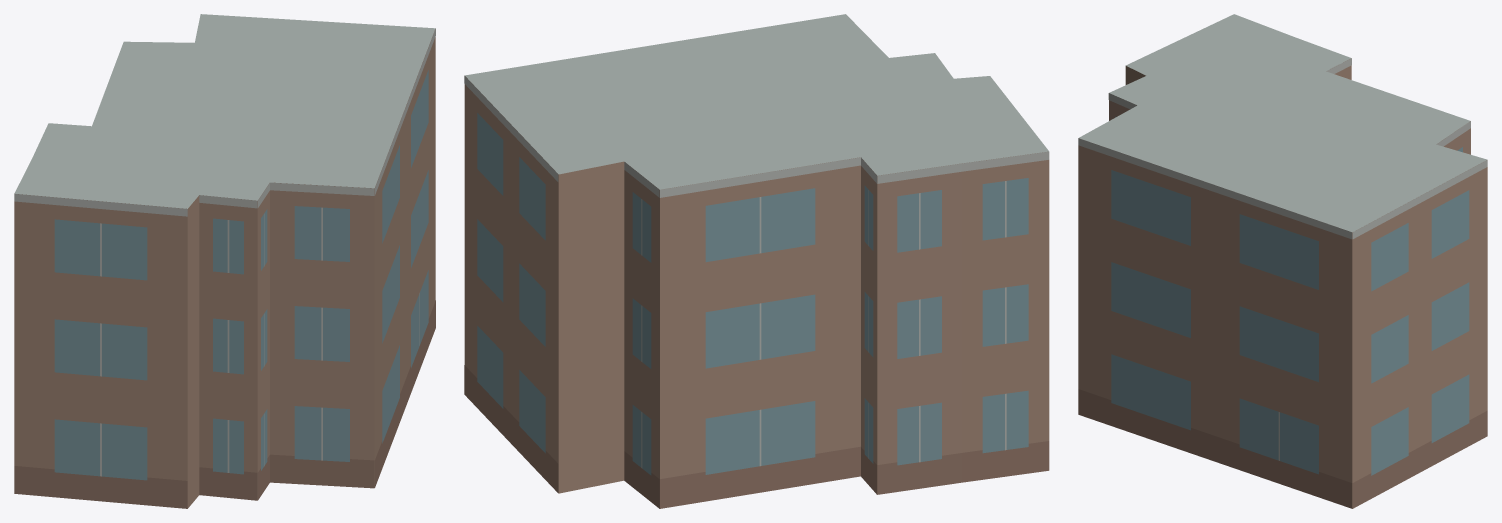
Rendered from survey-upis-32979694.glb.
3 views of the same model, side by side, from view 1: azimuth 30°, elevation 25°; view 2: azimuth 150°, elevation 25°; view 3: azimuth 270°, elevation 25° (orthographic). The views are drawn at different scales.
Parts seen in each view (by area): view 1: survey-upis-32979694.tmp; view 2: survey-upis-32979694.tmp; view 3: survey-upis-32979694.tmp.
Boxes of the visible parts, <box> form: survey-upis-32979694.tmp: <box>14,14,435,508</box>; survey-upis-32979694.tmp: <box>464,14,1049,508</box>; survey-upis-32979694.tmp: <box>1078,14,1487,508</box>.
Size of the model in its own units: 15.93 by 9.4 by 12.62.
